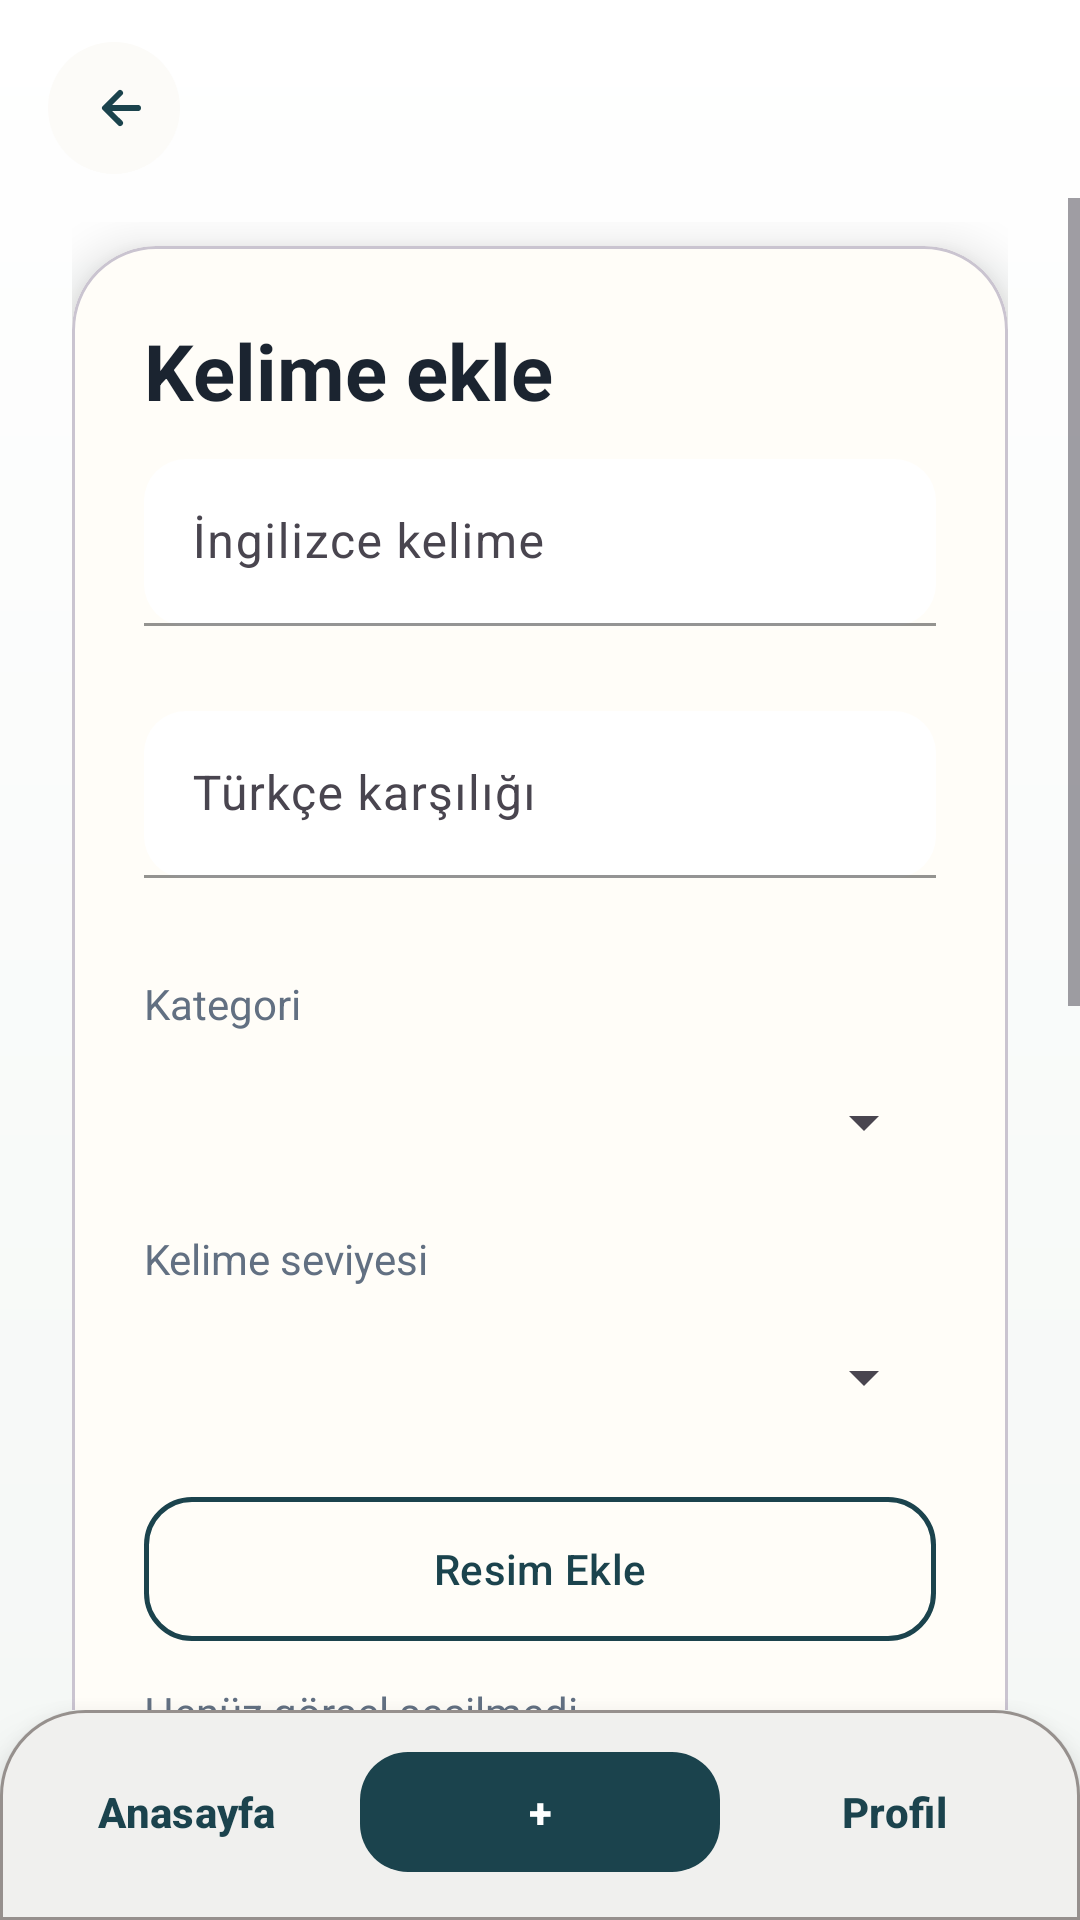

Icons on this 1080x1920 Android screen, each with the point to tap as (x,y):
Geri: (121,108)
